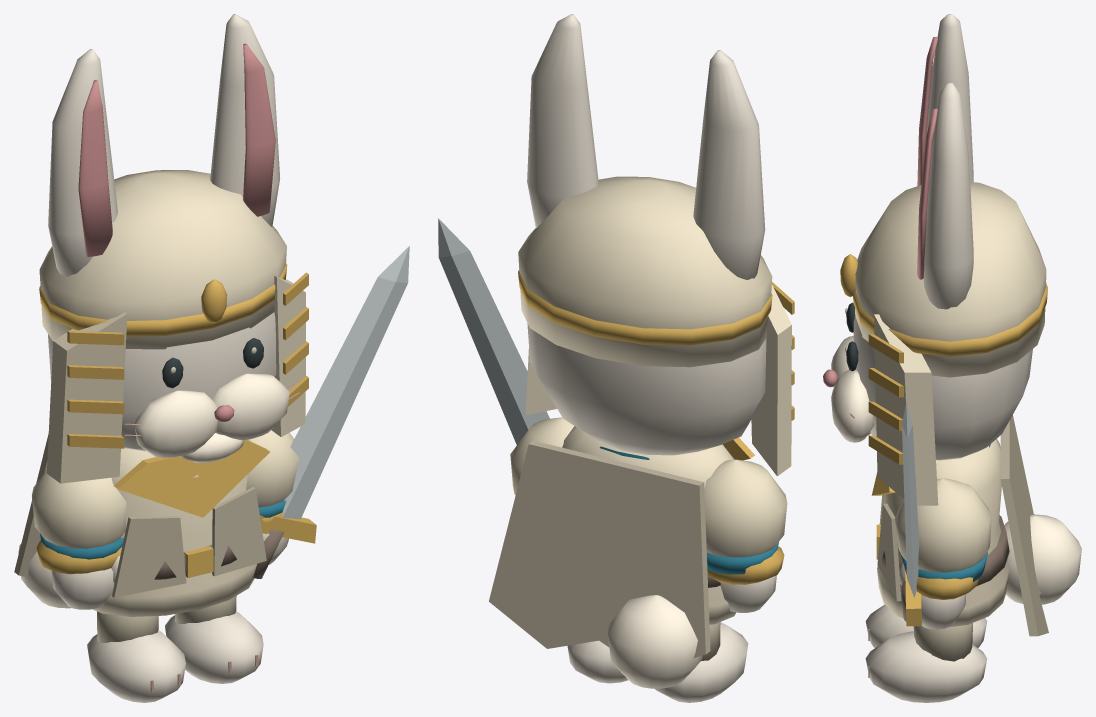
Rendered from giant.glb.
3 renders of one model, left to right at view 1: azimuth 30°, elevation 25°; view 2: azimuth 150°, elevation 25°; view 3: azimuth 270°, elevation 25°, orthographic. The views are drawn at different scales.
Parts seen in each view (by area): view 1: Striped nemes crown, Shaped bevel sword, Nemes shoulder wing, Animal cheek head, Rabbit long soft ear, Short folded tunic, Rabbit long soft ear.001, Puff sleeve, Broad gold collar, Soft animal paw, Soft animal paw.001, Coat fold (+23 smaller); view 2: Short scalloped cape, Striped nemes crown, Animal cheek head, Rabbit long soft ear, Rabbit long soft ear.001, Shaped bevel sword, Puff sleeve, Rabbit cotton tail, Nemes shoulder wing, Nemes front band, Short folded tunic, Soft animal paw (+6 smaller); view 3: Striped nemes crown, Rabbit long soft ear.001, Animal cheek head, Nemes shoulder wing.001, Puff sleeve.001, Soft animal paw.001, Short folded tunic, Short scalloped cape, Rabbit cotton tail, Rabbit long soft ear, Nemes front band, Rabbit round cheek.001 (+17 smaller).
Boxes of the visible parts, bbox=[...] form: Striped nemes crown: bbox=[39, 170, 286, 349]; Shaped bevel sword: bbox=[281, 246, 409, 519]; Nemes shoulder wing: bbox=[46, 312, 127, 483]; Animal cheek head: bbox=[48, 312, 276, 451]; Rabbit long soft ear: bbox=[48, 49, 117, 276]; Short folded tunic: bbox=[92, 439, 256, 616]; Rabbit long soft ear.001: bbox=[210, 14, 280, 226]; Puff sleeve: bbox=[32, 469, 126, 548]; Broad gold collar: bbox=[113, 440, 269, 517]; Soft animal paw: bbox=[87, 630, 185, 702]; Soft animal paw.001: bbox=[165, 611, 263, 683]; Coat fold: bbox=[112, 516, 186, 597]; Short scalloped cape: bbox=[489, 440, 710, 658]; Striped nemes crown: bbox=[518, 176, 772, 367]; Animal cheek head: bbox=[527, 323, 766, 455]; Rabbit long soft ear: bbox=[693, 50, 765, 279]; Rabbit long soft ear.001: bbox=[527, 14, 598, 227]; Shaped bevel sword: bbox=[438, 218, 549, 444]; Puff sleeve: bbox=[704, 459, 787, 557]; Rabbit cotton tail: bbox=[607, 595, 702, 688]; Nemes shoulder wing: bbox=[751, 285, 791, 476]; Nemes front band: bbox=[518, 270, 772, 345]; Short folded tunic: bbox=[562, 426, 736, 624]; Soft animal paw: bbox=[655, 622, 748, 702]; Striped nemes crown: bbox=[855, 182, 1046, 377]; Rabbit long soft ear.001: bbox=[923, 82, 973, 309]; Animal cheek head: bbox=[853, 316, 1032, 460]; Nemes shoulder wing.001: bbox=[874, 314, 938, 505]; Puff sleeve.001: bbox=[894, 478, 991, 572]; Soft animal paw.001: bbox=[865, 631, 987, 702]; Short folded tunic: bbox=[877, 439, 1009, 627]; Short scalloped cape: bbox=[1000, 415, 1048, 636]; Rabbit cotton tail: bbox=[1004, 514, 1081, 604]; Rabbit long soft ear: bbox=[927, 14, 973, 182]; Nemes front band: bbox=[853, 282, 1047, 356]; Rabbit round cheek.001: bbox=[831, 369, 874, 442].
Bounding box in the file's own units: 1.65 × 2.88 × 1.07.
